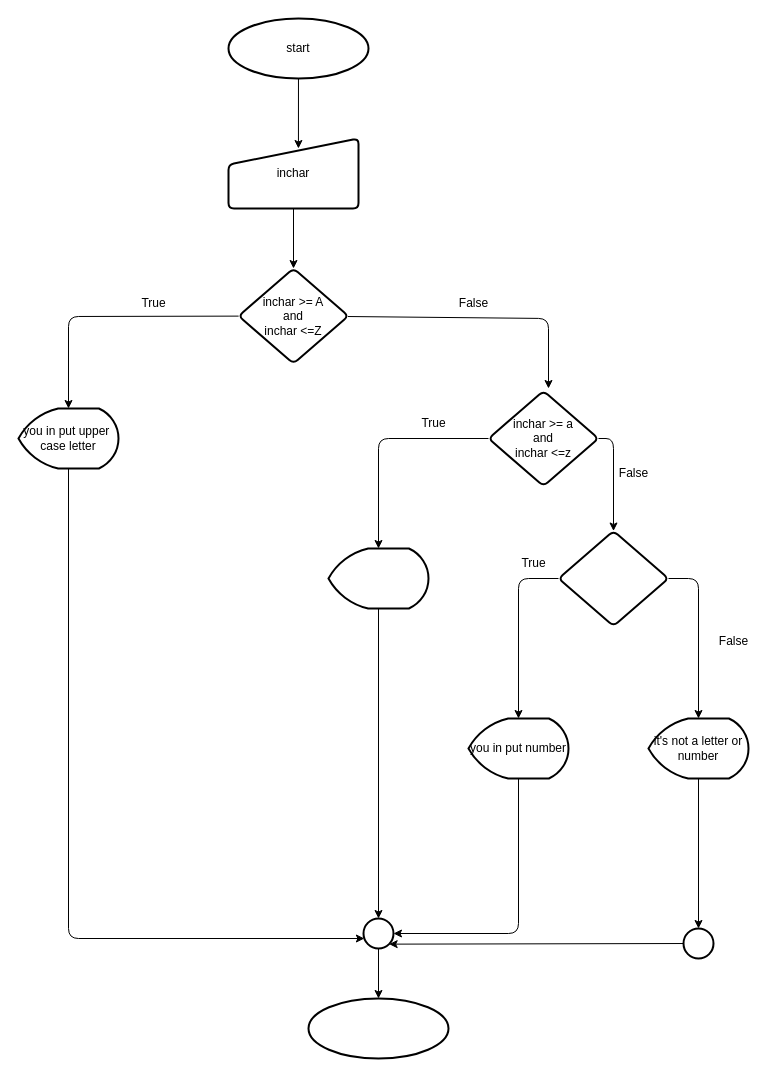
Image size: 775x1076. Some labels were removed from this diagram. The centre of each missing label's shape, as x and y in pixels:
"End" goes at (x=378, y=1028).
"inchar >= 0 and inchar <=9" goes at (x=613, y=578).
"you in put lower case letter" goes at (x=378, y=578).
